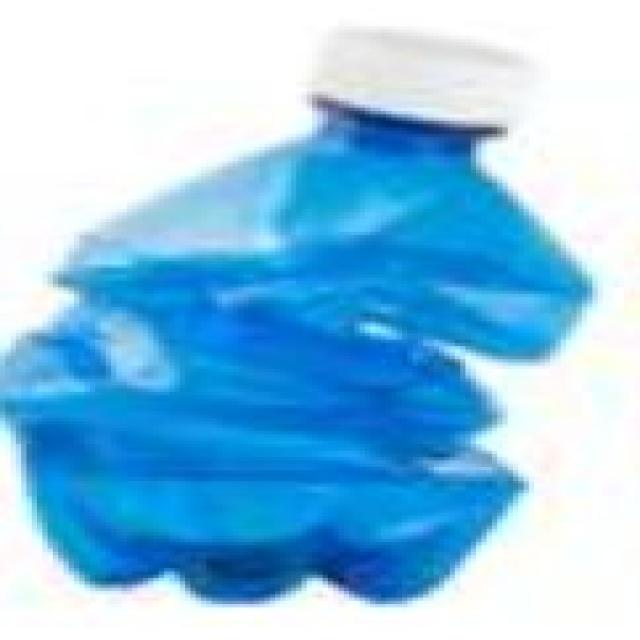general: (0, 23, 598, 604)
